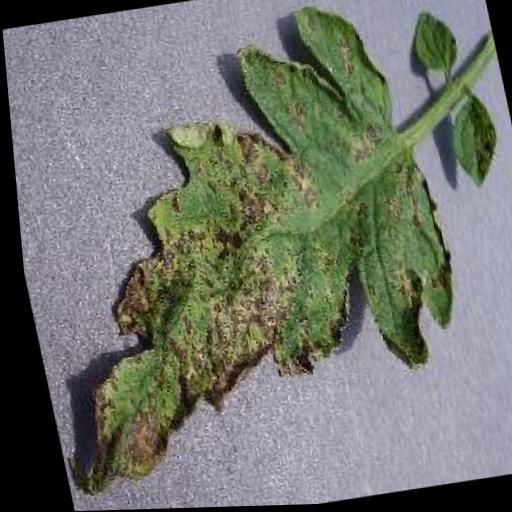Septoria: (0, 0, 480, 499)
